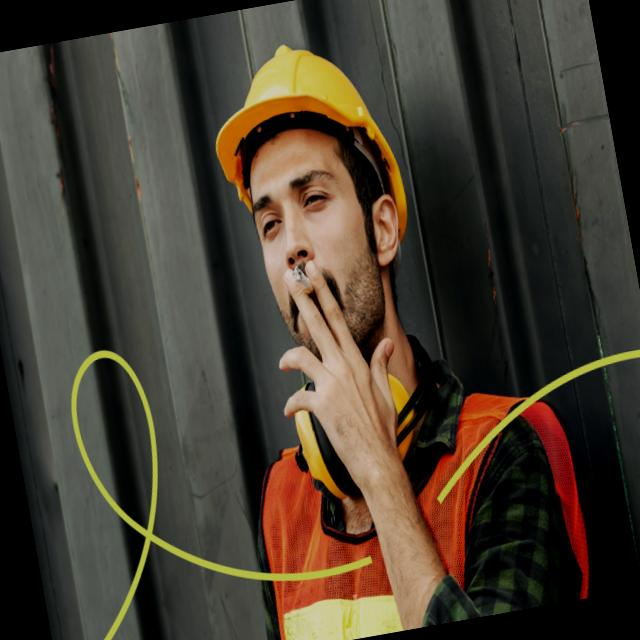helmet: (200, 26, 417, 223)
no-goggles: (238, 162, 396, 240)
no-vest: (257, 382, 604, 640)
